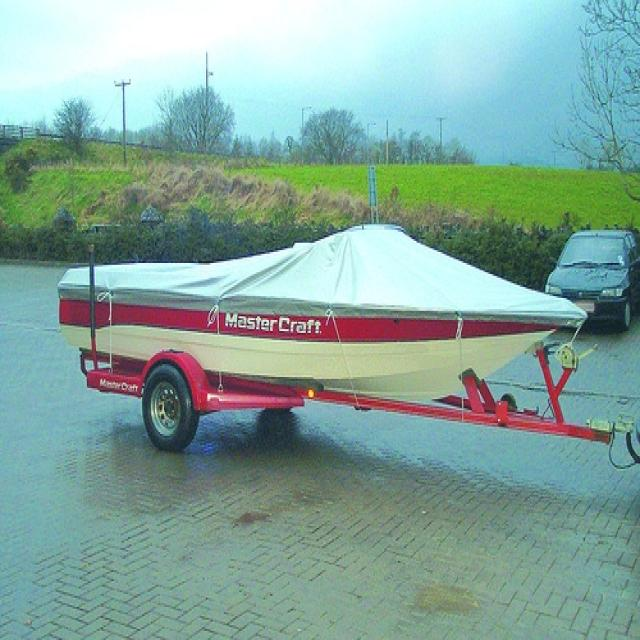boat: (55, 219, 586, 406)
car: (545, 228, 639, 331)
